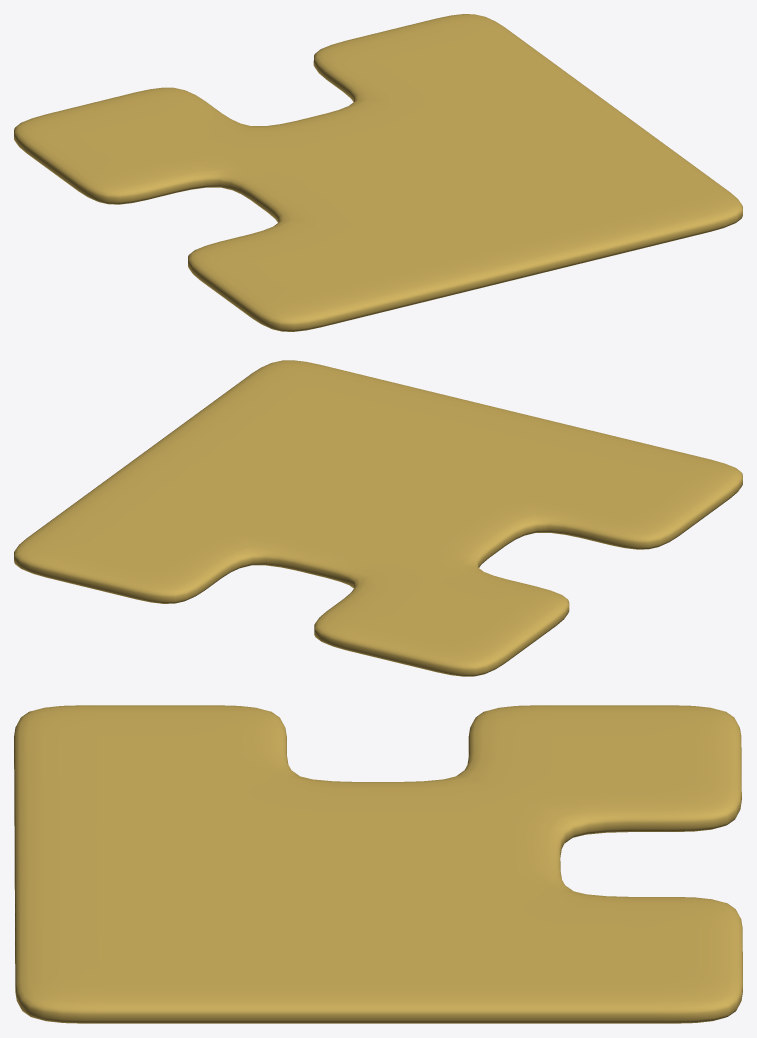
The model's file is GoldenPuzzle-21-OOFF.fbx.
3 renders of one model, top to bottom at view 1: azimuth 30°, elevation 25°; view 2: azimuth 150°, elevation 25°; view 3: azimuth 270°, elevation 25°, orthographic. The views are drawn at different scales.
Parts seen in each view (by area): view 1: Puzzle_021; view 2: Puzzle_021; view 3: Puzzle_021.
Boxes of the visible parts, x1=… form: Puzzle_021: x1=14, y1=14, x2=742, y2=331; Puzzle_021: x1=14, y1=360, x2=742, y2=676; Puzzle_021: x1=14, y1=705, x2=742, y2=1023.
Size of the model in its own units: 0.25 by 0.00924 by 0.2513.
